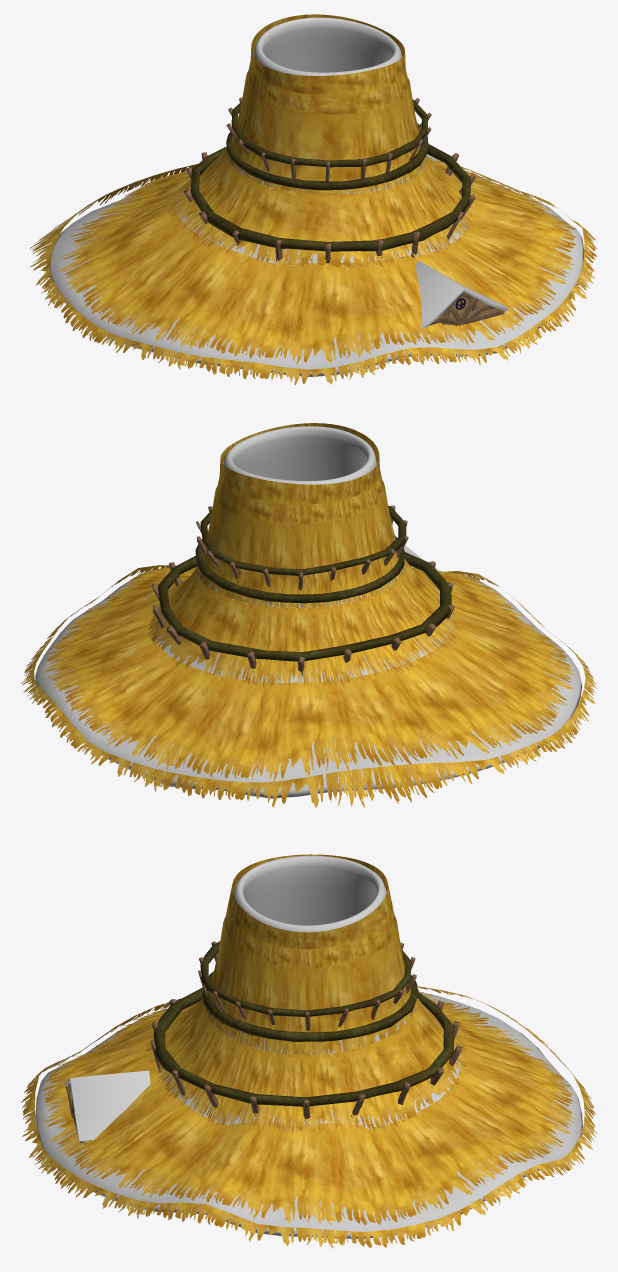
Rendered from SM_roof_shaped.fbx.
3 views of the same model, one above another, from view 1: azimuth 30°, elevation 25°; view 2: azimuth 150°, elevation 25°; view 3: azimuth 270°, elevation 25° (orthographic). The views are drawn at different scales.
Parts seen in each view (by area): view 1: roof_shaped; view 2: roof_shaped; view 3: roof_shaped.
Boxes of the visible parts, left/top/right/bottom form: roof_shaped: left=29, top=14, right=597, bottom=385; roof_shaped: left=21, top=423, right=596, bottom=807; roof_shaped: left=21, top=854, right=597, bottom=1248.
Size of the model in its own units: 1737 by 794 by 1665.
